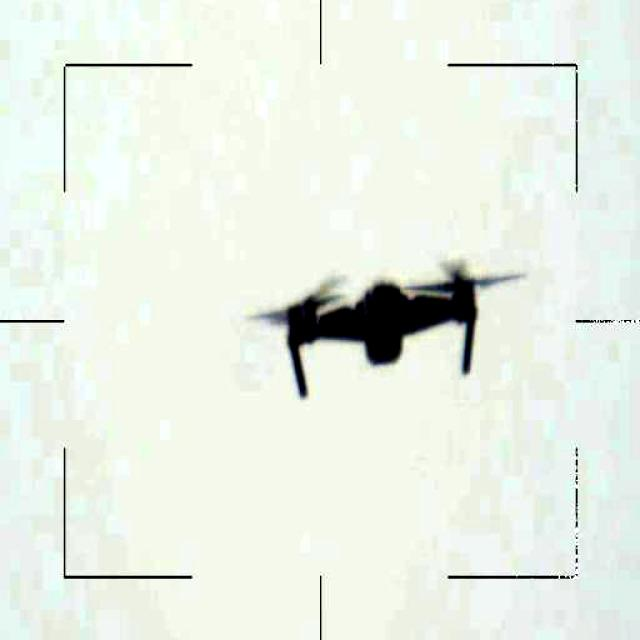bird: (238, 264, 529, 406)
